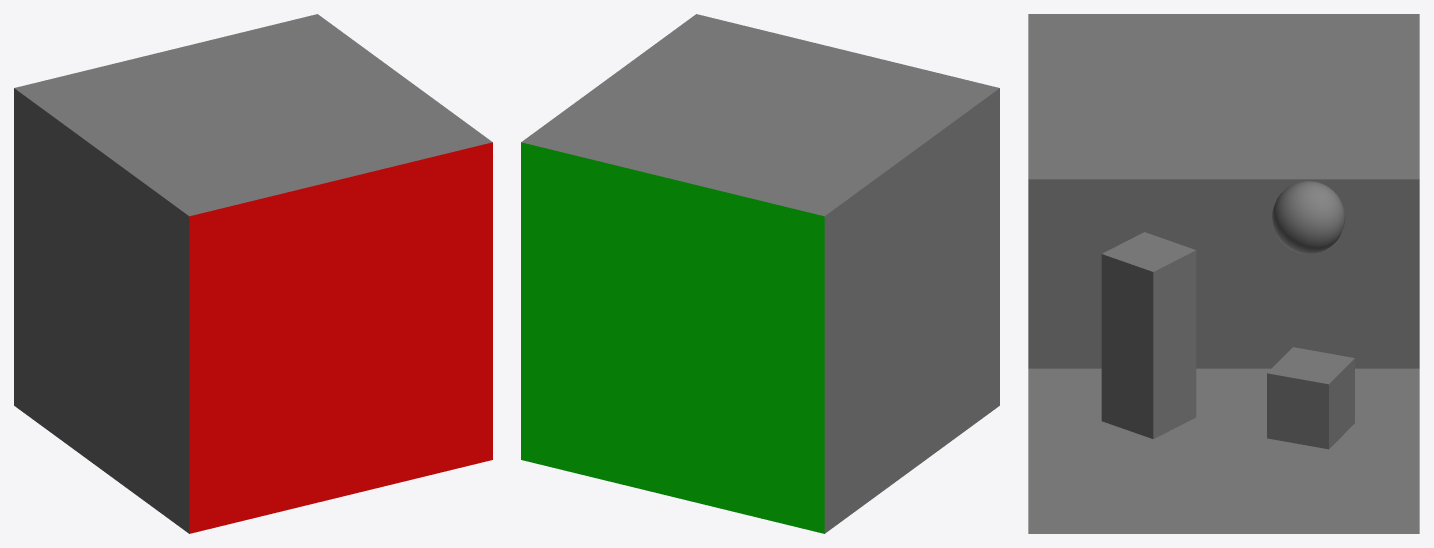
File: cornellBall.obj
The picture shows the model from 3 angles, left to right: view 1: azimuth 30°, elevation 25°; view 2: azimuth 150°, elevation 25°; view 3: azimuth 270°, elevation 25°; orthographic projection. The views are drawn at different scales.
Visible parts, largest first — view 1: pCube1 polySurface1 polySurface4, pCube1 polySurface3 polySurface1; view 2: pCube1 polySurface1 polySurface4, polySurface2 pCube1; view 3: pCube1 polySurface1 polySurface4, pCube2, pCube3, pSphere1.
Part boxes in pixels (<box>): pCube1 polySurface1 polySurface4: <box>14,14,492,533</box>; pCube1 polySurface3 polySurface1: <box>189,142,492,533</box>; pCube1 polySurface1 polySurface4: <box>521,14,999,533</box>; polySurface2 pCube1: <box>521,142,824,533</box>; pCube1 polySurface1 polySurface4: <box>1028,14,1419,533</box>; pCube2: <box>1101,232,1196,439</box>; pCube3: <box>1267,347,1354,449</box>; pSphere1: <box>1272,181,1345,254</box>.
Size of the model in its own units: 10.67 by 10.67 by 10.67.
